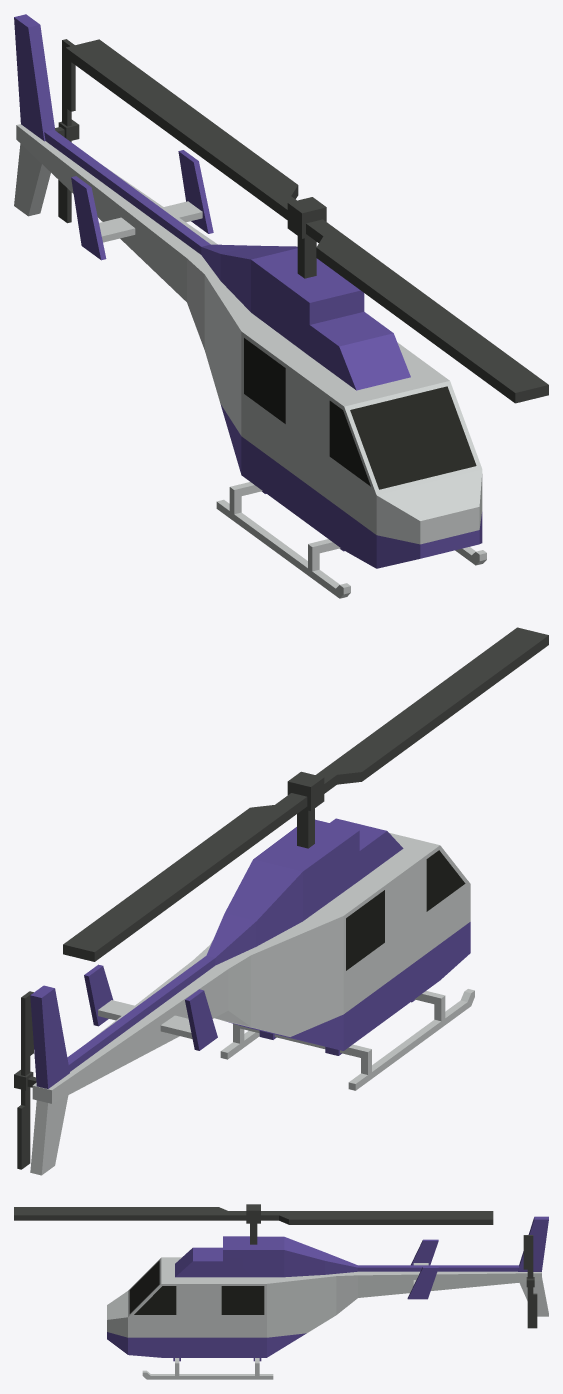
The model's file is Veh_Helicopter_01_Violet.glb.
The picture shows the model from 3 angles, top to bottom: view 1: azimuth 30°, elevation 25°; view 2: azimuth 150°, elevation 25°; view 3: azimuth 270°, elevation 25°; orthographic projection. The views are drawn at different scales.
Visible parts, largest first — view 1: Veh_Helicopter_01_Violet, Rotor_Main, Rotor_Tail; view 2: Veh_Helicopter_01_Violet, Rotor_Main, Rotor_Tail; view 3: Veh_Helicopter_01_Violet, Rotor_Main, Rotor_Tail.
Boxes of the visible parts, box(x1,y1,x2,y2) form: Veh_Helicopter_01_Violet: box(14, 14, 486, 598); Rotor_Main: box(65, 39, 548, 403); Rotor_Tail: box(55, 39, 79, 223); Veh_Helicopter_01_Violet: box(30, 818, 474, 1175); Rotor_Main: box(63, 627, 548, 961); Rotor_Tail: box(14, 991, 36, 1169); Veh_Helicopter_01_Violet: box(107, 1216, 548, 1379); Rotor_Main: box(14, 1204, 493, 1244); Rotor_Tail: box(523, 1235, 537, 1328).
Size of the model in its own units: 1.02 by 2.05 by 6.44.
1 material, 1 textured.
